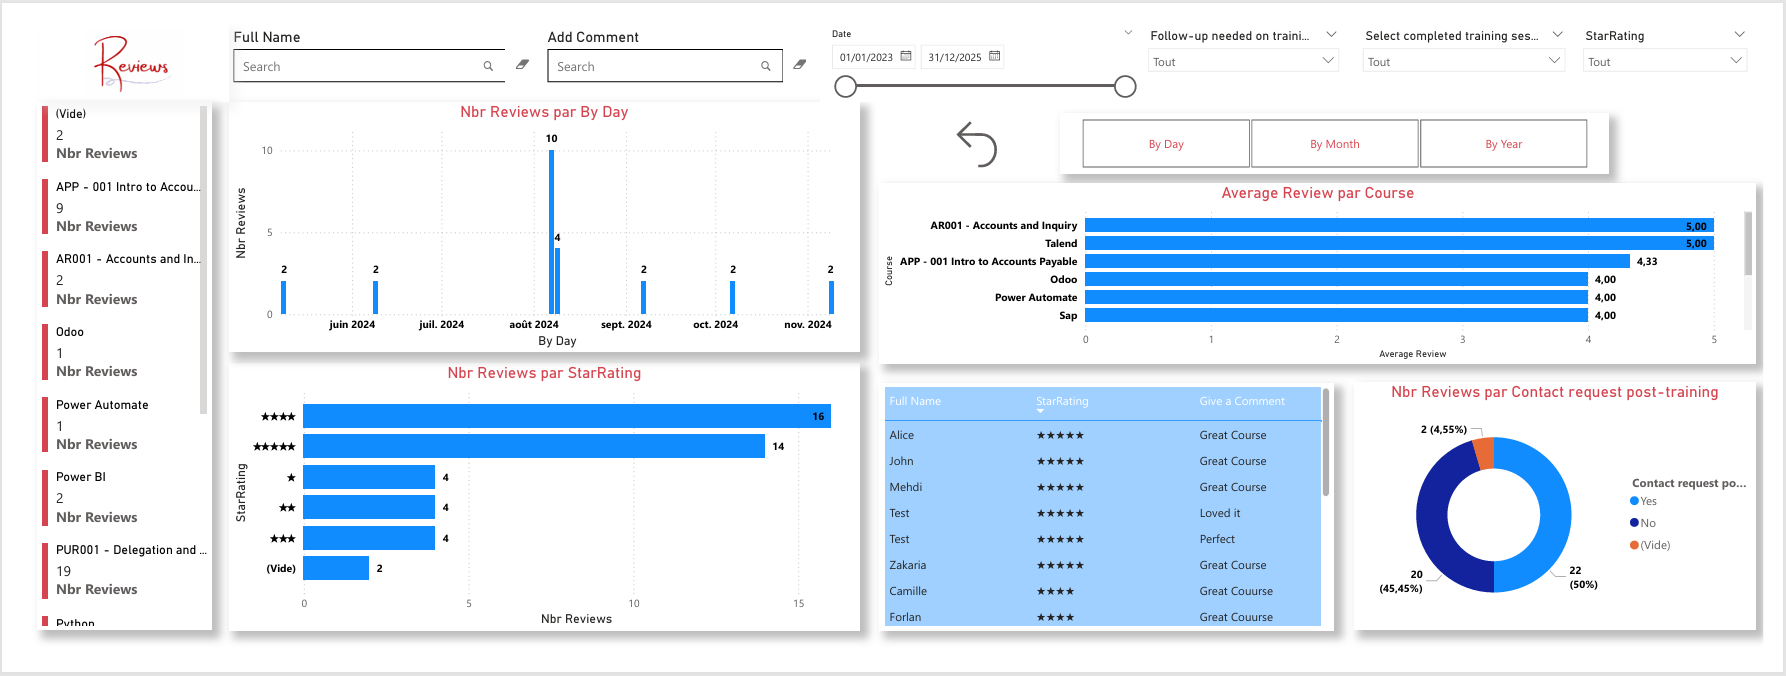

The dashboard page shown, as its layout file describes it:
{"tool":"powerbi","page":{"name":"Reviews","canvas":[2000,720],"ordinal":0},"visuals":[{"type":"multiRowCard","fields":{"Values":["Reviews.Please select training completed","Mesure.Nbr Reviews"]},"box":[16.7,90,200,606.7],"z":0},{"type":"slicer","fields":{"Values":["Parameter.Parameter"]},"box":[1191.7,103.3,630,68.3],"z":1000},{"type":"barChart","fields":{"Category":["Reviews.StarRating"],"Y":["Mesure.Nbr Reviews"]},"box":[236.7,390,725,306.7],"z":2000},{"type":"clusteredColumnChart","fields":{"Category":["Calendar.Date","Calendar.Month","Calendar.Year"],"Y":["Mesure.Nbr Reviews"]},"box":[236.7,90,725,286.7],"z":3000},{"type":"tableEx","fields":{"Values":["Reviews.Full Name","Reviews.StarRating","Reviews.Please use this space to add comments about the effectiveness of today's training."]},"box":[985,413.3,521.7,283.3],"z":4000},{"type":"barChart","fields":{"Category":["Reviews.Please select training completed"],"Y":["Avg(Reviews.How would you rate the overall effectiveness of today's training?)"]},"box":[985,183.3,1006.7,206.7],"z":5000},{"type":"donutChart","fields":{"Category":["Reviews.Would you like someone to reach out to you, regarding a specific question you have from today's training?"],"Y":["Mesure.Nbr Reviews"]},"box":[1530,411.7,461.7,285],"z":6000},{"type":"slicer","fields":{"Values":["Calendar.Date"]},"box":[916.7,0,371.7,90],"z":7000},{"type":"slicer","fields":{"Values":["Reviews.StarRating"]},"box":[1783.3,0,208.3,60],"z":8000},{"type":"slicer","fields":{"Values":["Reviews.Would you like someone to reach out to you, regarding a specific question you have from today's training?"]},"box":[1283.3,0,240,60],"z":9000},{"type":"slicer","fields":{"Values":["Reviews.Please select training completed"]},"box":[1530,0,253.3,60],"z":10000},{"type":"actionButton","box":[1063.3,105,80,66.7],"z":11000},{"type":"textFilter25A4896A83E0487089E2B90C9AE57C8A","fields":{"field":["Reviews.Full Name"]},"box":[236.7,5,361.7,66.7],"z":12000},{"type":"textFilter25A4896A83E0487089E2B90C9AE57C8A","fields":{"field":["Reviews.Please use this space to add comments about the effectiveness of today's training."]},"box":[598.3,5,318.3,66.7],"z":13000},{"type":"image","box":[20,0,216.7,90],"z":14000}]}

Visuals, with their boxes on the page's 2000x720 design canvas (x1, y1, x2, y2). These are canvas units, not pixel positions in the 1786x676 screenshot, which may show the page scaled, cropped or inside an application window:
multiRowCard - Reviews.Please select training completed x Mesure.Nbr Reviews: {"left": 17, "top": 90, "right": 217, "bottom": 697}
slicer - Parameter.Parameter: {"left": 1192, "top": 103, "right": 1822, "bottom": 172}
barChart - Reviews.StarRating x Mesure.Nbr Reviews: {"left": 237, "top": 390, "right": 962, "bottom": 697}
clusteredColumnChart - Calendar.Date x Calendar.Month: {"left": 237, "top": 90, "right": 962, "bottom": 377}
tableEx - Reviews.Full Name x Reviews.StarRating: {"left": 985, "top": 413, "right": 1507, "bottom": 697}
barChart - Reviews.Please select training completed x Avg(Reviews.How would you rate the overall effectiveness of today's training?): {"left": 985, "top": 183, "right": 1992, "bottom": 390}
donutChart - Reviews.Would you like someone to reach out to you, regarding a specific question you have from today's training? x Mesure.Nbr Reviews: {"left": 1530, "top": 412, "right": 1992, "bottom": 697}
slicer - Calendar.Date: {"left": 917, "top": 0, "right": 1288, "bottom": 90}
slicer - Reviews.StarRating: {"left": 1783, "top": 0, "right": 1992, "bottom": 60}
slicer - Reviews.Would you like someone to reach out to you, regarding a specific question you have from today's training?: {"left": 1283, "top": 0, "right": 1523, "bottom": 60}
slicer - Reviews.Please select training completed: {"left": 1530, "top": 0, "right": 1783, "bottom": 60}
actionButton: {"left": 1063, "top": 105, "right": 1143, "bottom": 172}
textFilter25A4896A83E0487089E2B90C9AE57C8A - Reviews.Full Name: {"left": 237, "top": 5, "right": 598, "bottom": 72}
textFilter25A4896A83E0487089E2B90C9AE57C8A - Reviews.Please use this space to add comments about the effectiveness of today's training.: {"left": 598, "top": 5, "right": 917, "bottom": 72}
image: {"left": 20, "top": 0, "right": 237, "bottom": 90}
